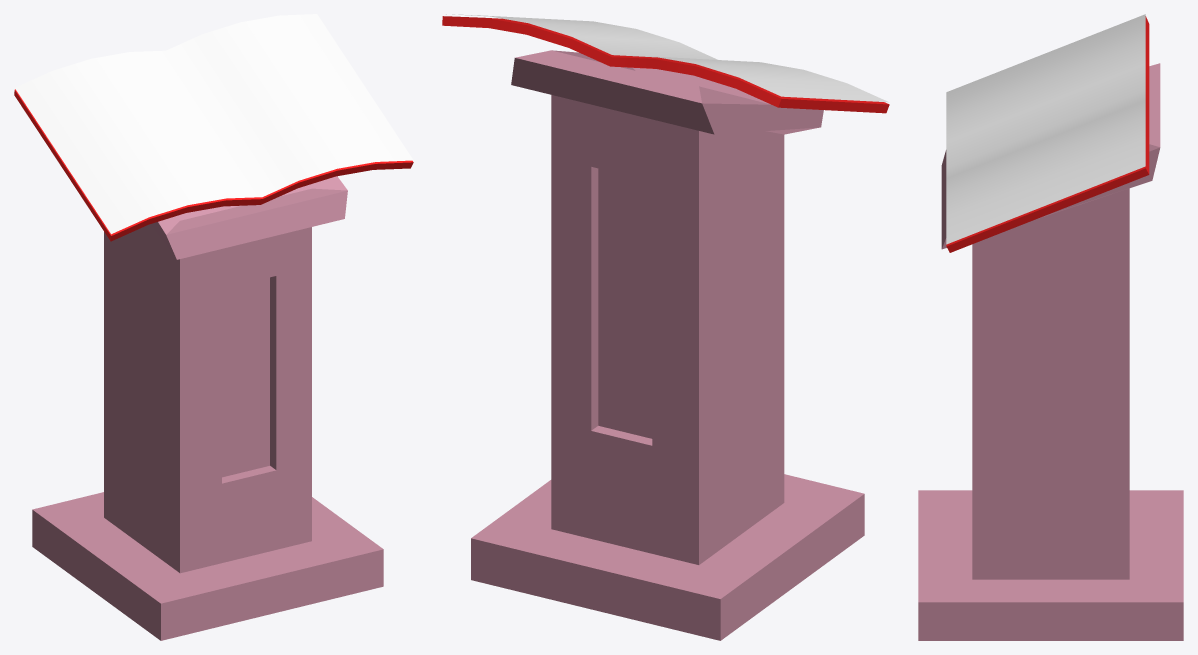
The model's file is Livre.FBX.
The picture shows the model from 3 angles, left to right: view 1: azimuth 30°, elevation 25°; view 2: azimuth 150°, elevation 25°; view 3: azimuth 270°, elevation 25°; orthographic projection. The views are drawn at different scales.
Visible parts, largest first — view 1: Livre; view 2: Livre; view 3: Livre.
Part boxes in pixels (<box>): Livre: <box>14,14,413,640</box>; Livre: <box>442,14,889,640</box>; Livre: <box>918,14,1183,640</box>.
Size of the model in its own units: 40.73 by 63.25 by 30.
